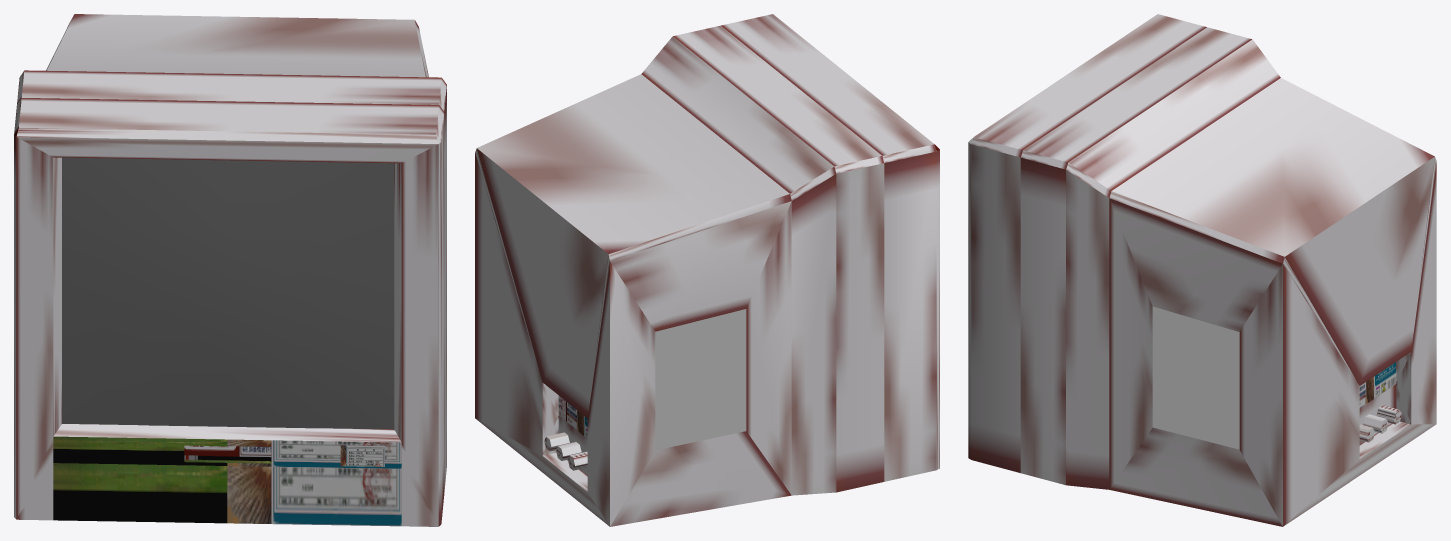
The picture shows the model from 3 angles, left to right: view 1: azimuth 30°, elevation 25°; view 2: azimuth 150°, elevation 25°; view 3: azimuth 270°, elevation 25°; orthographic projection. The views are drawn at different scales.
Visible parts, largest first — view 1: Joint_0_Object_1, Joint_0_Object_3, Joint_0_Object_4; view 2: Joint_0_Object_1, Joint_0_Object_2, Joint_0_Object_0; view 3: Joint_0_Object_1, Joint_0_Object_2, Joint_0_Object_0.
Boxes of the visible parts, x1,y1,x2,y2 form: Joint_0_Object_1: [14, 14, 446, 526]; Joint_0_Object_3: [62, 157, 394, 429]; Joint_0_Object_4: [184, 445, 384, 466]; Joint_0_Object_1: [475, 14, 939, 526]; Joint_0_Object_2: [655, 309, 746, 450]; Joint_0_Object_0: [544, 432, 587, 470]; Joint_0_Object_1: [968, 14, 1436, 526]; Joint_0_Object_2: [1152, 306, 1239, 449]; Joint_0_Object_0: [1359, 405, 1401, 442].
Size of the model in its own units: 993 by 769 by 1016.
